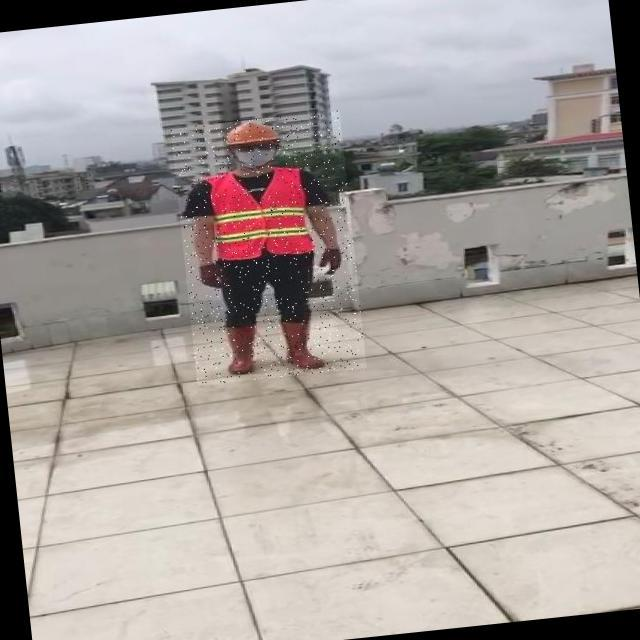Gloves: (315, 248, 344, 277), (198, 264, 228, 290)
Helmet: (217, 115, 281, 148)
Human: (170, 110, 366, 385)
Safety Boot: (280, 318, 331, 370), (224, 321, 261, 374)
Safety Vest: (207, 166, 313, 261)
